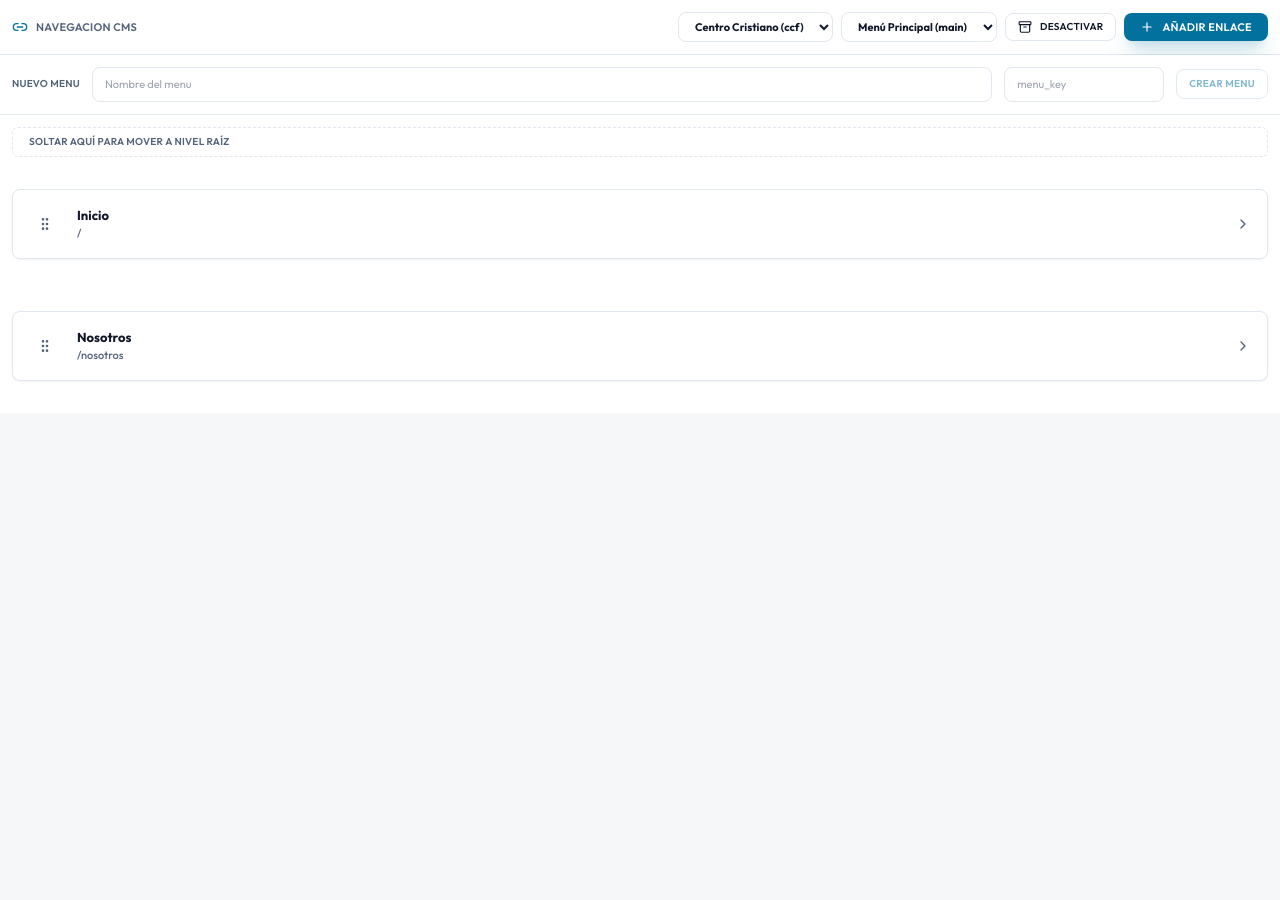
Test: Adversarial Verification & Edge Cases (R1-R6) › R2: Menus Page Edge Cases & Modal States › toggles quick add bar and handles menu deactivation modal
Open quick add
Step 1. Click the button "Añadir Enlace" → point(1196, 27), box top-left (1124, 13), bottom-right (1268, 41)
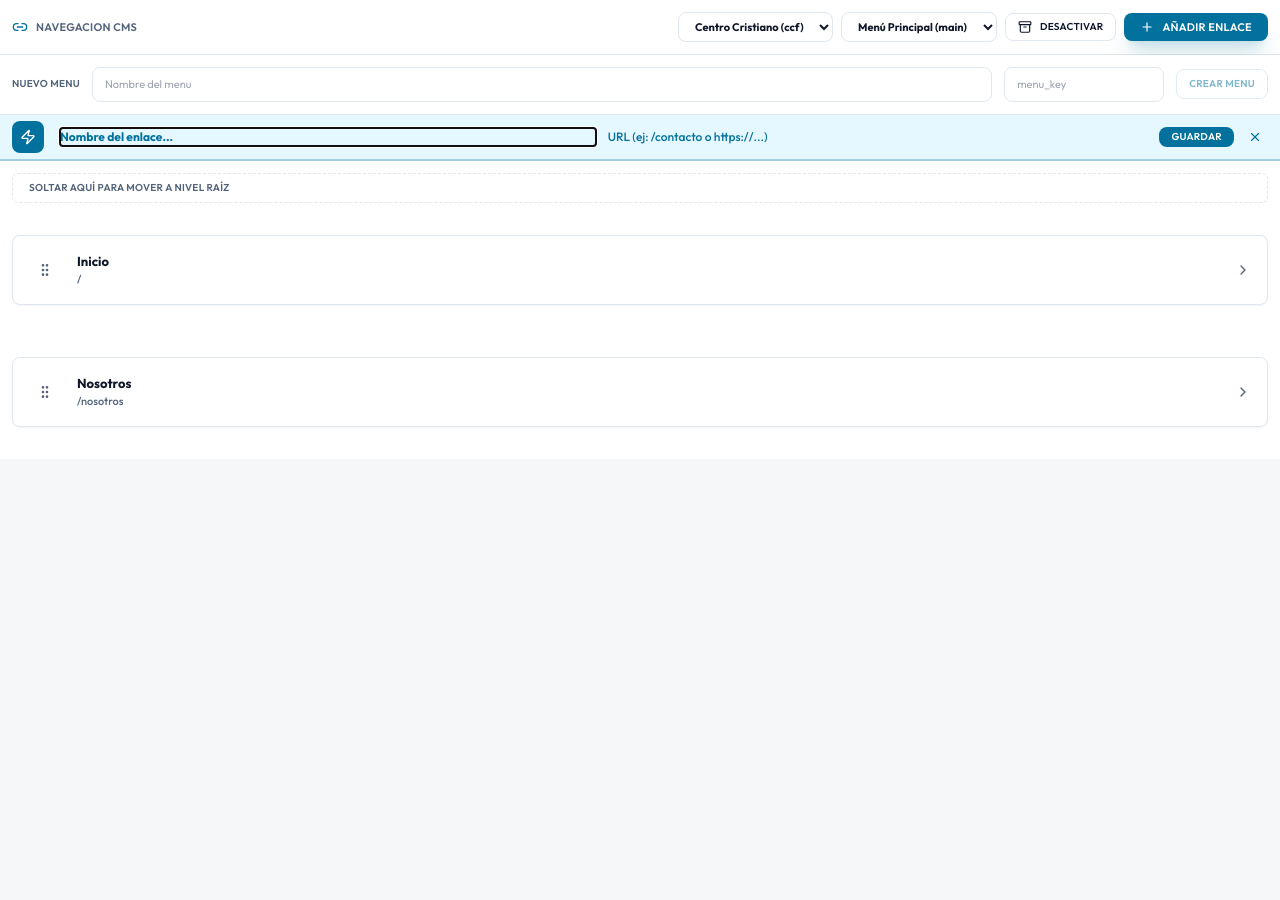
Check: the field with placeholder "Nombre del enlace..." is shown, box top-left (60, 128), bottom-right (596, 146)
Deactivate menu drawer
Step 2. Click the button "Desactivar" → point(1061, 27), box top-left (1005, 13), bottom-right (1116, 41)
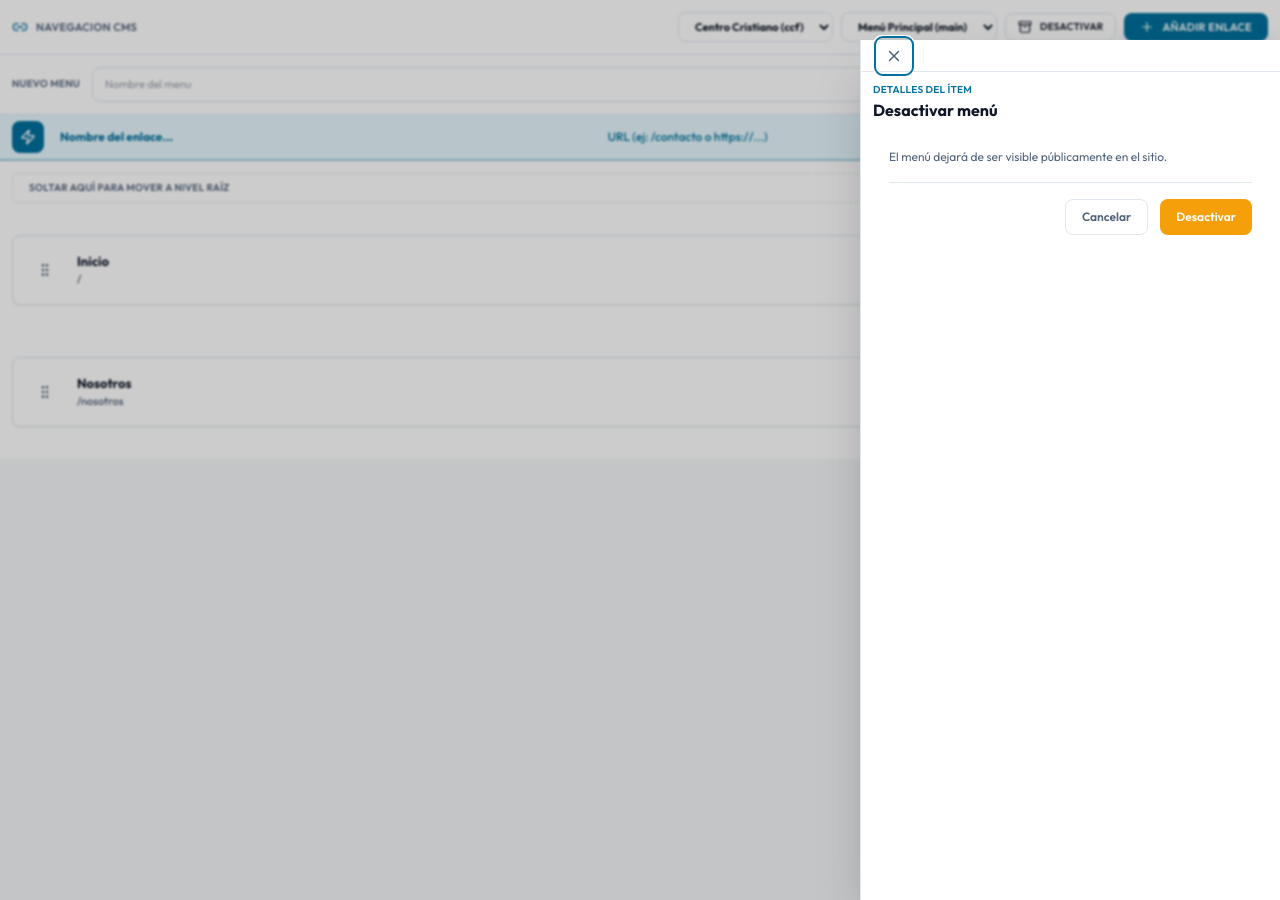
Check: the dialog "Desactivar menú" is shown, box top-left (860, 40), bottom-right (1279, 899)
Step 3. Click the button "Cancelar" → point(1107, 217), box top-left (1065, 199), bottom-right (1148, 235)
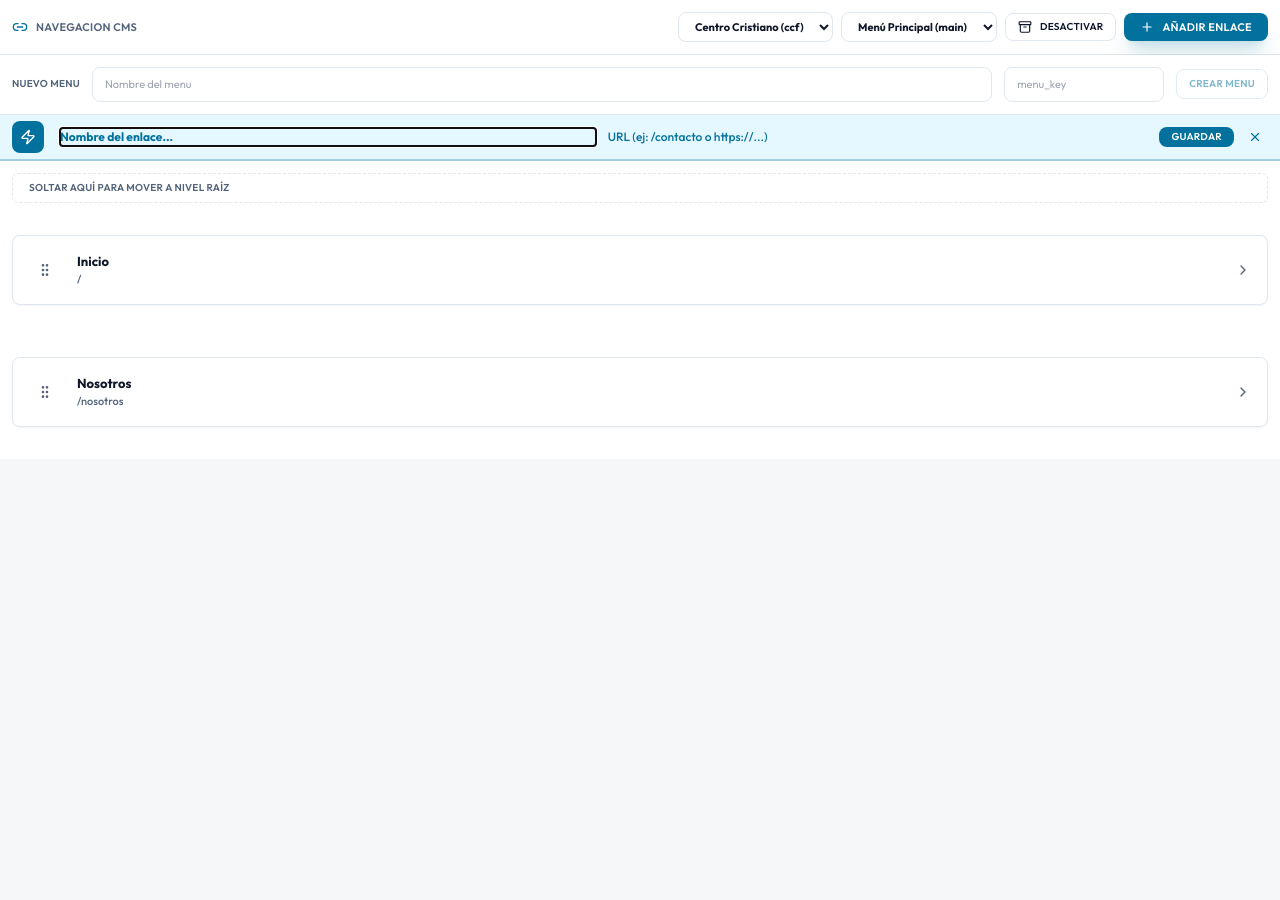
Check: the heading "Desactivar menú" is gone
